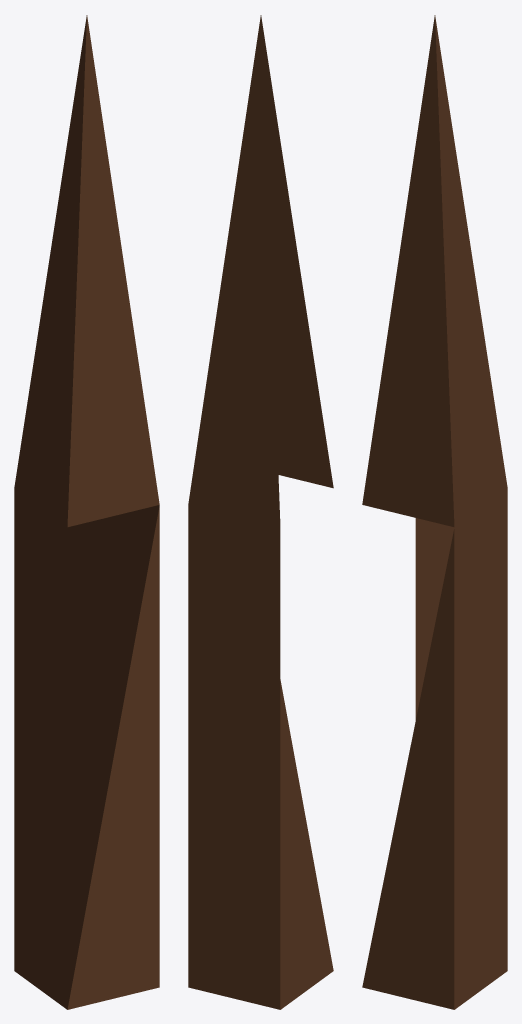
File: branch.obj
The picture shows the model from 3 angles, left to right: view 1: azimuth 30°, elevation 25°; view 2: azimuth 150°, elevation 25°; view 3: azimuth 330°, elevation 25°; orthographic projection.
Parts seen in each view (by area): view 1: Branch; view 2: Branch; view 3: Branch.
Boxes of the visible parts, box(x1,y1,x2,y2) form: Branch: box(14, 15, 159, 1009); Branch: box(188, 15, 333, 1009); Branch: box(362, 15, 507, 1009).
Size of the model in its own units: 0.1 by 1 by 0.1.
